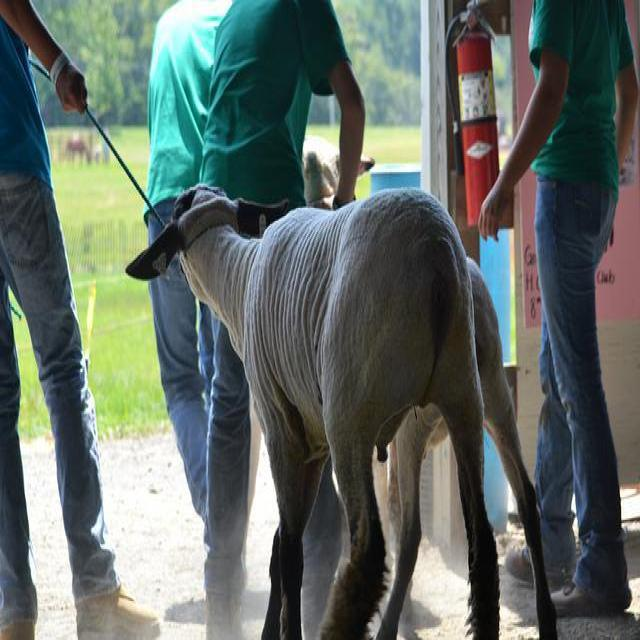Sheep: (125, 135, 559, 638)
